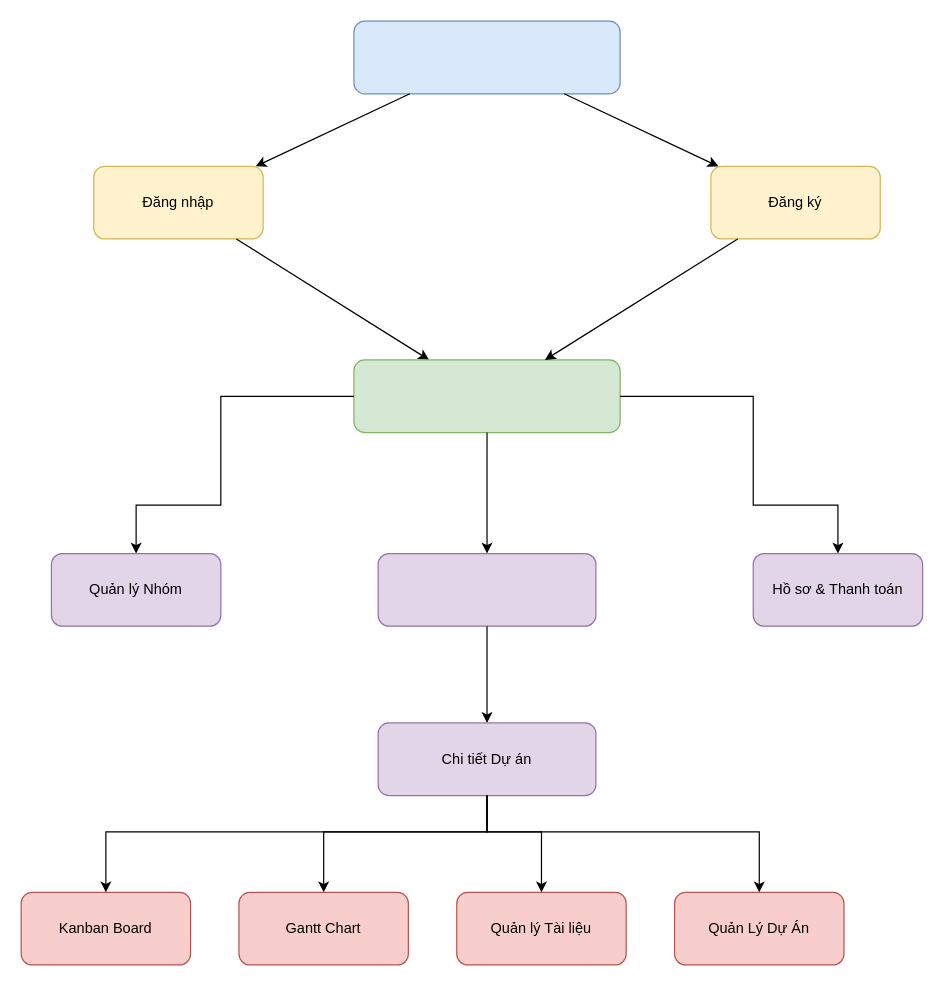
This 944x986 diagram has some shape labels left out. The centre of each missing label's shape, as x and y in pixels:
"Bảng điều khiển (Dashboard)" goes at (x=486, y=396).
"Danh sách Dự án" goes at (x=486, y=589).
"Trang chủ (Landing Page)" goes at (x=486, y=57).
